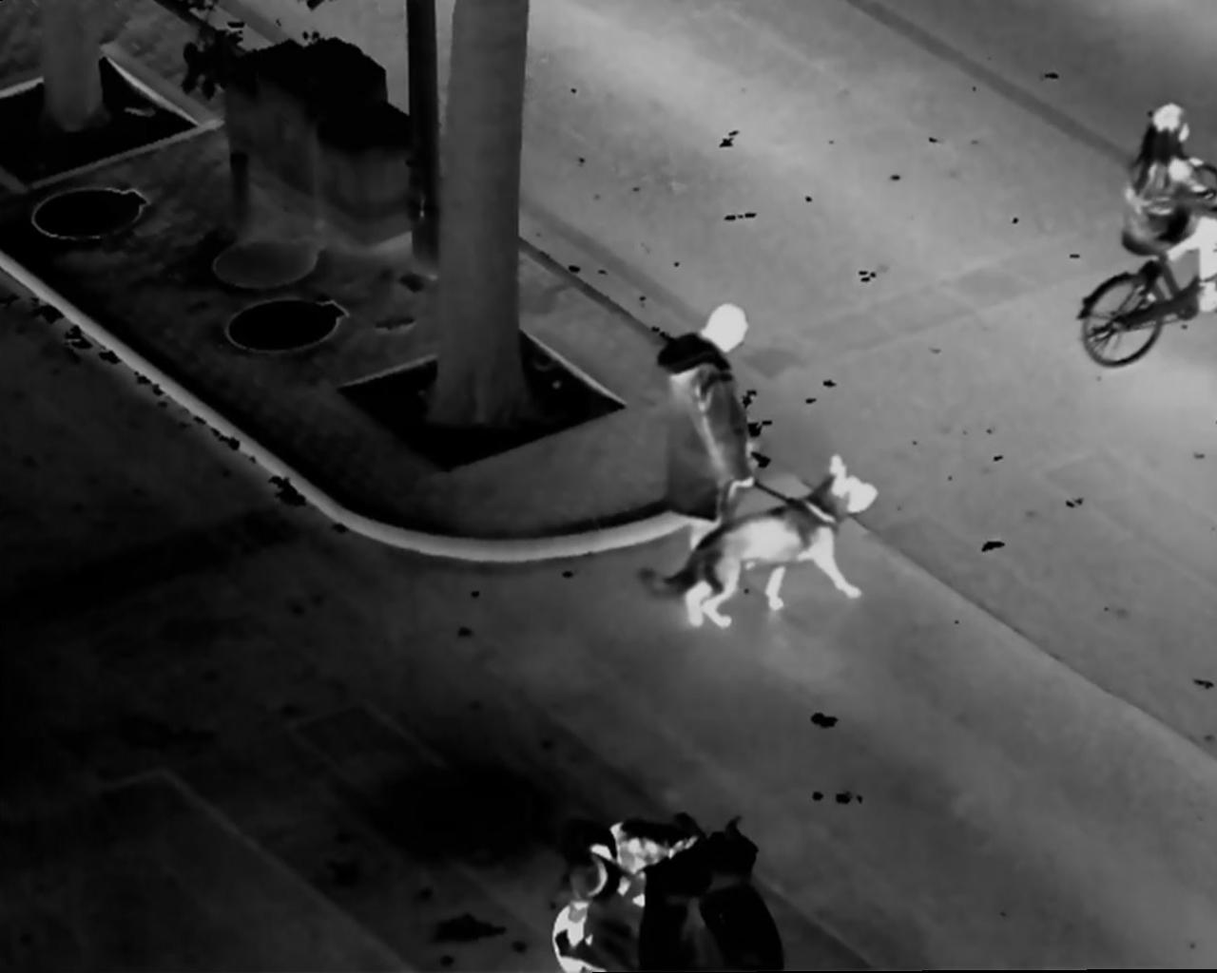person: (659, 300, 768, 587), (550, 811, 704, 973), (1120, 92, 1217, 302)
